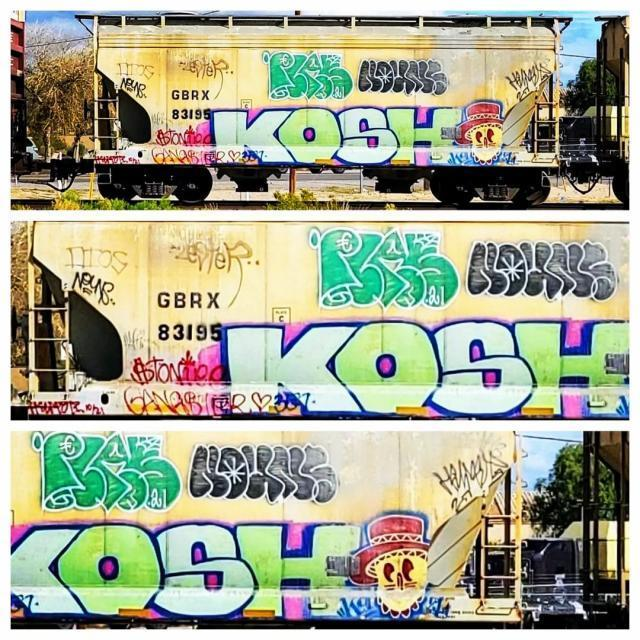-: (210, 316, 632, 423), (2, 518, 364, 630), (202, 105, 470, 169), (294, 222, 464, 310), (110, 356, 314, 416), (21, 436, 177, 508), (462, 238, 630, 303), (184, 442, 358, 502), (360, 508, 440, 620), (428, 438, 524, 516), (57, 234, 137, 312), (260, 50, 356, 106), (166, 232, 258, 285), (154, 286, 228, 350), (358, 55, 450, 101), (498, 52, 568, 106), (459, 102, 506, 170), (115, 63, 156, 109), (167, 87, 213, 123)
